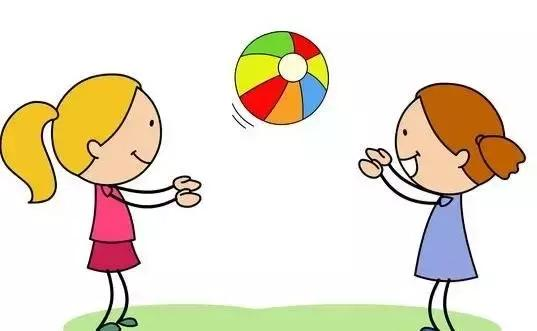ball: (235, 30, 329, 126)
